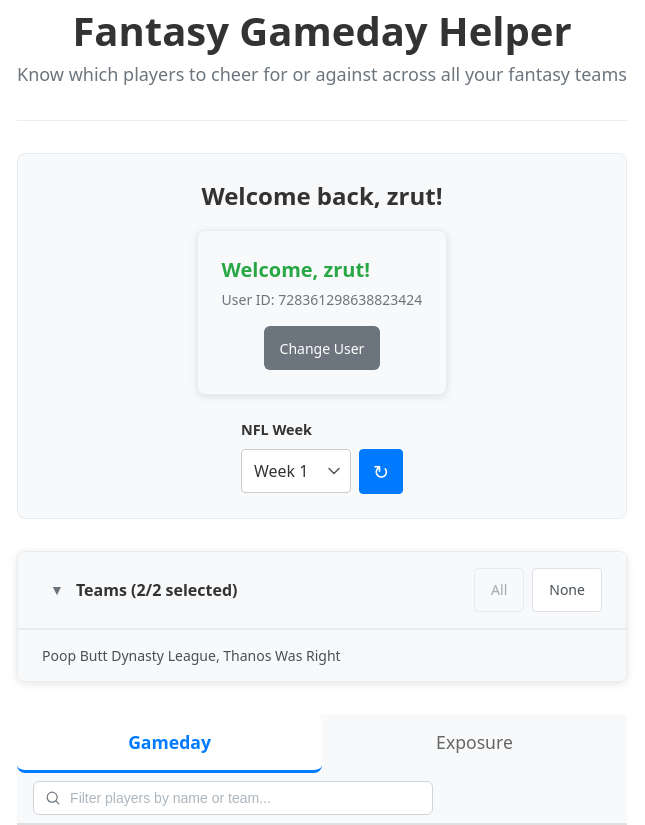
Test case: co-managed leagues › maps the co-managed league to the shared roster, not a new one
Check: the heading "Welcome back, zrut!" is shown, box [202, 178, 443, 214]
Click the button "▼ Teams (2/2 selected)": x=144, y=590 [42, 568, 246, 612]
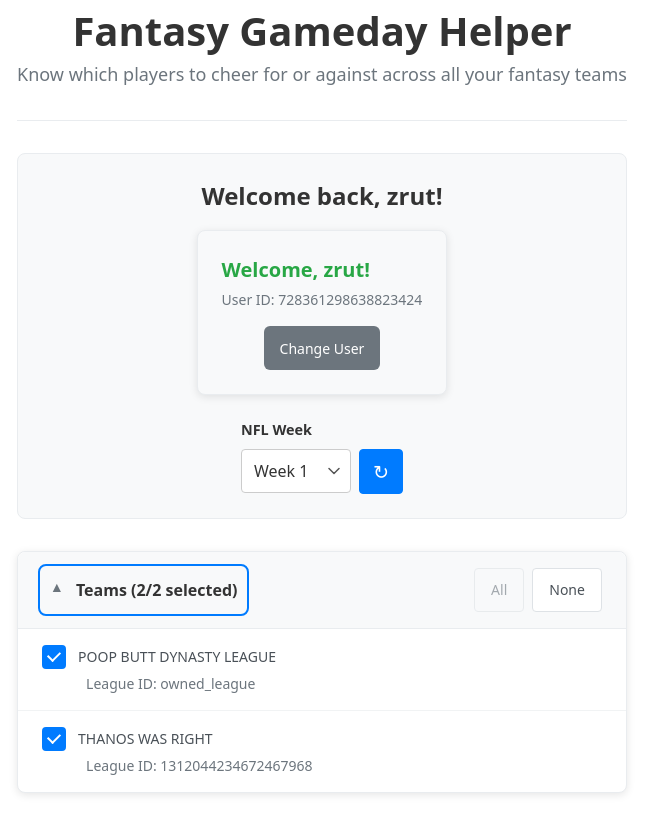
Check: the text "Thanos Was Right" is shown, box [78, 729, 213, 748]
